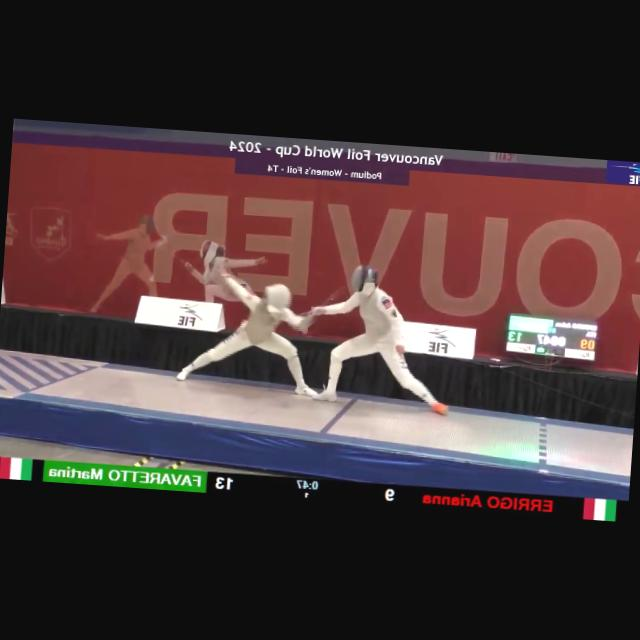blade: (306, 285, 356, 326), (265, 302, 315, 330)
